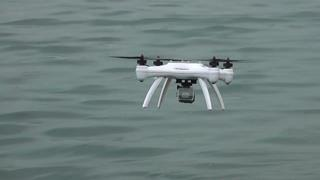UAV: (108, 54, 252, 111)
